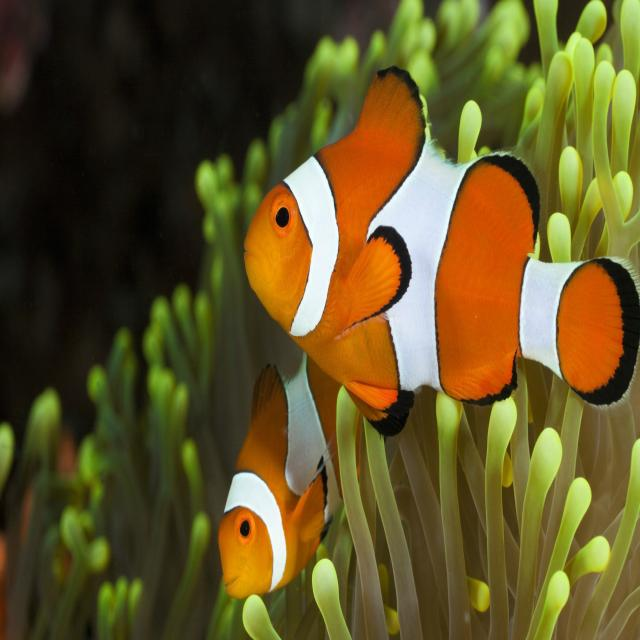ClownFish: (247, 65, 638, 431), (219, 368, 344, 590)
